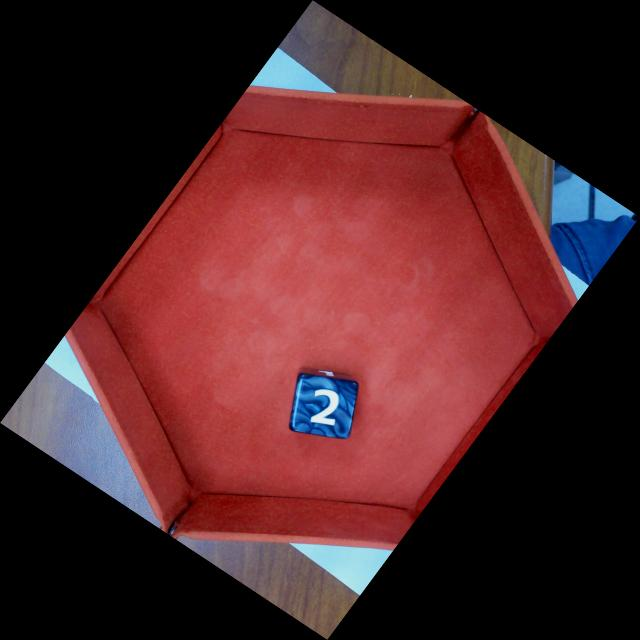dice: (293, 375, 353, 439)
